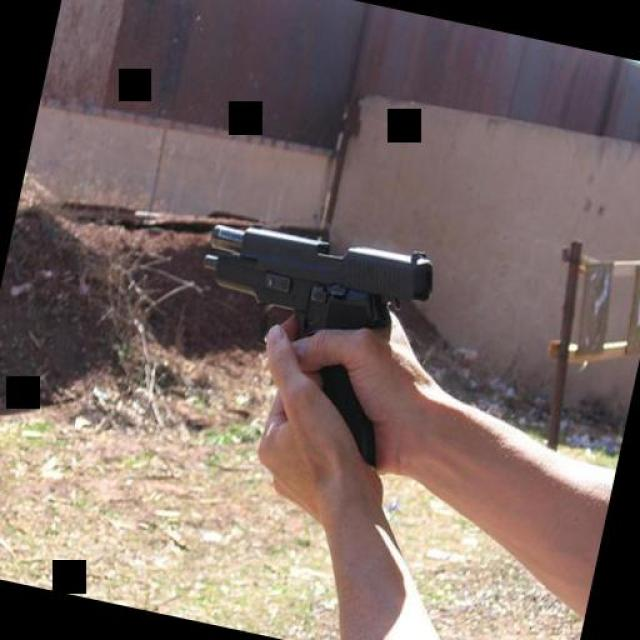gun: (163, 205, 435, 473)
